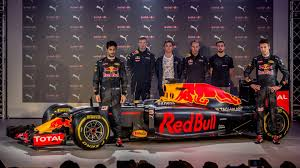FormulaOneCar: (6, 73, 294, 157)
